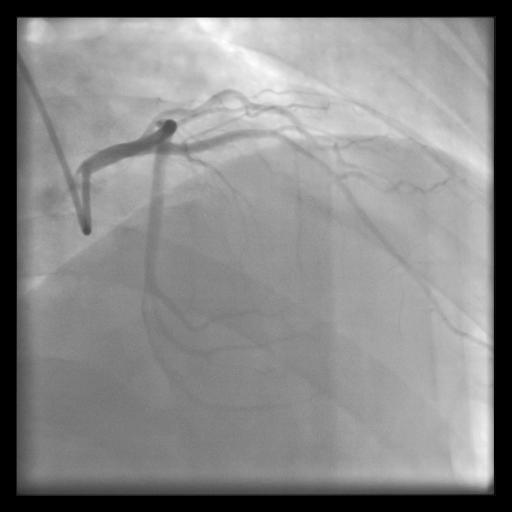Stenosis: (156, 103, 203, 117)
